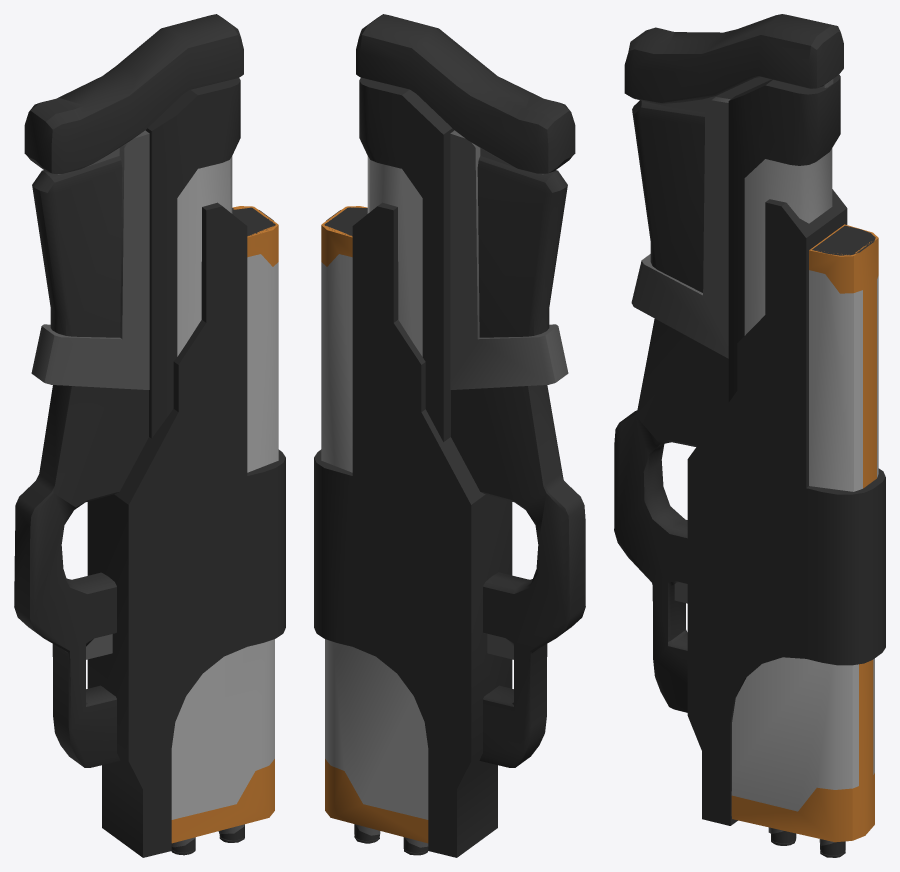
The picture shows the model from 3 angles, left to right: view 1: azimuth 30°, elevation 25°; view 2: azimuth 150°, elevation 25°; view 3: azimuth 330°, elevation 25°; orthographic projection.
Visible parts, largest first — view 1: WeaponMesh_qg-ar-2_AR_2; view 2: WeaponMesh_qg-ar-2_AR_2; view 3: WeaponMesh_qg-ar-2_AR_2.
Boxes of the visible parts, x1=… form: WeaponMesh_qg-ar-2_AR_2: x1=14, y1=14, x2=285, y2=857; WeaponMesh_qg-ar-2_AR_2: x1=314, y1=14, x2=585, y2=857; WeaponMesh_qg-ar-2_AR_2: x1=614, y1=14, x2=885, y2=857.
Bounding box in the file's own units: 0.4075 × 1.25 × 0.1135.
